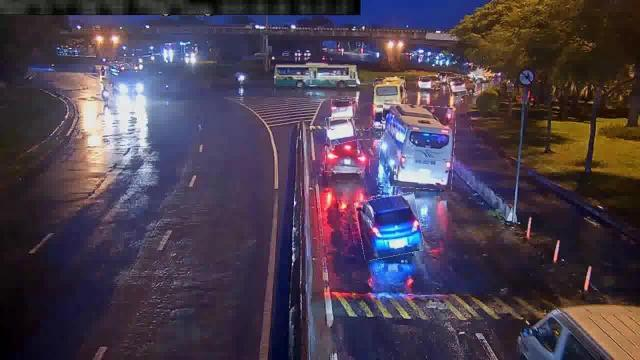Bus: (379, 105, 455, 189), (374, 77, 406, 112)
Car: (356, 194, 422, 258), (326, 138, 370, 172), (326, 114, 356, 144), (332, 98, 358, 120), (449, 76, 477, 96), (420, 75, 442, 89)
